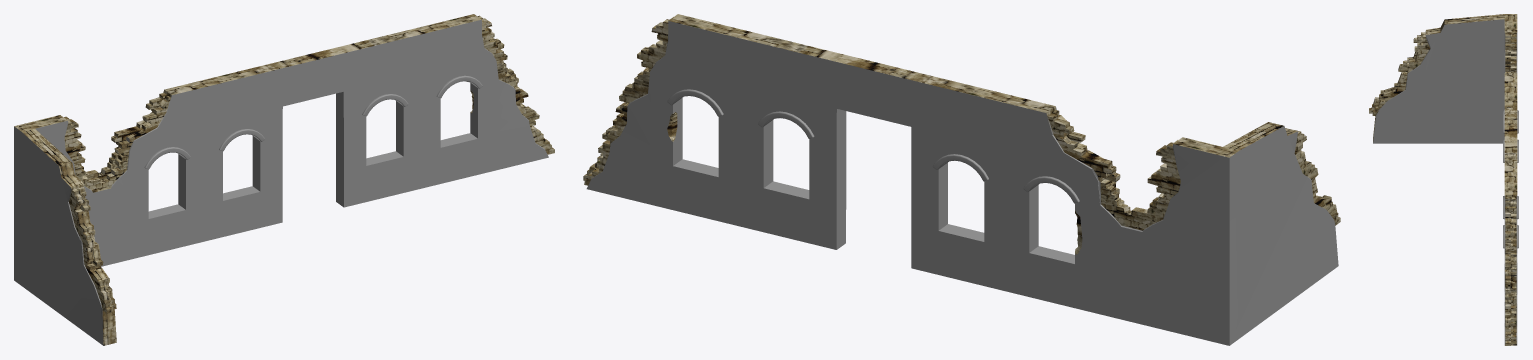
Rendered from ruins_wall.fbx.
3 views of the same model, side by side, from view 1: azimuth 30°, elevation 25°; view 2: azimuth 150°, elevation 25°; view 3: azimuth 270°, elevation 25° (orthographic). The views are drawn at different scales.
Visible parts, largest first — view 1: brick_1; view 2: brick_1; view 3: brick_1.
Part boxes in pixels (left/top/right/bottom): brick_1: left=14, top=14, right=554, bottom=345; brick_1: left=583, top=14, right=1340, bottom=345; brick_1: left=1369, top=14, right=1518, bottom=345.
Size of the model in its own units: 1975 by 546 by 596.
